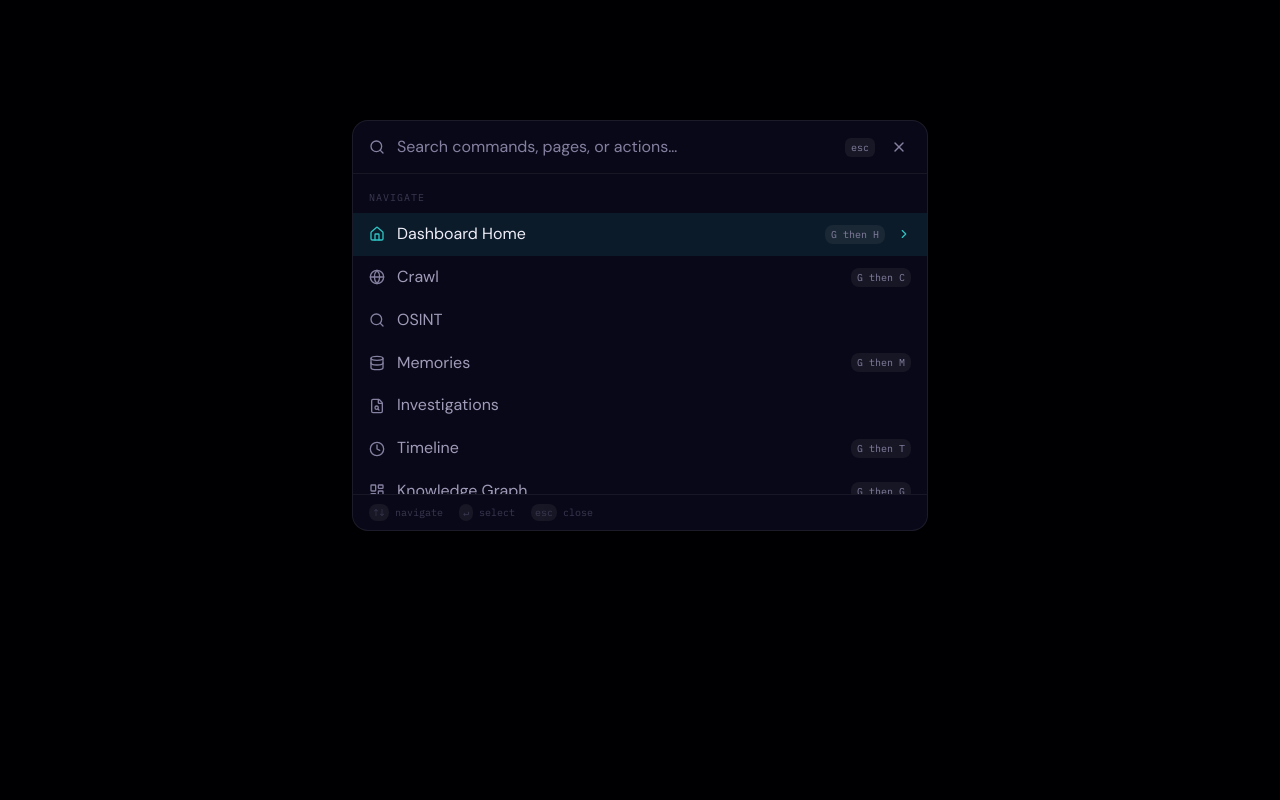
Test: CommandPalette › filters items by search query
expect the option "Dashboard Home G then H" is shown: met, box [353,213,927,256]
expect the option "Memories G then M" is shown: met, box [353,342,927,384]
Type to filter
In the dropdown: (615, 147) [397,136,833,158], type "toggle"
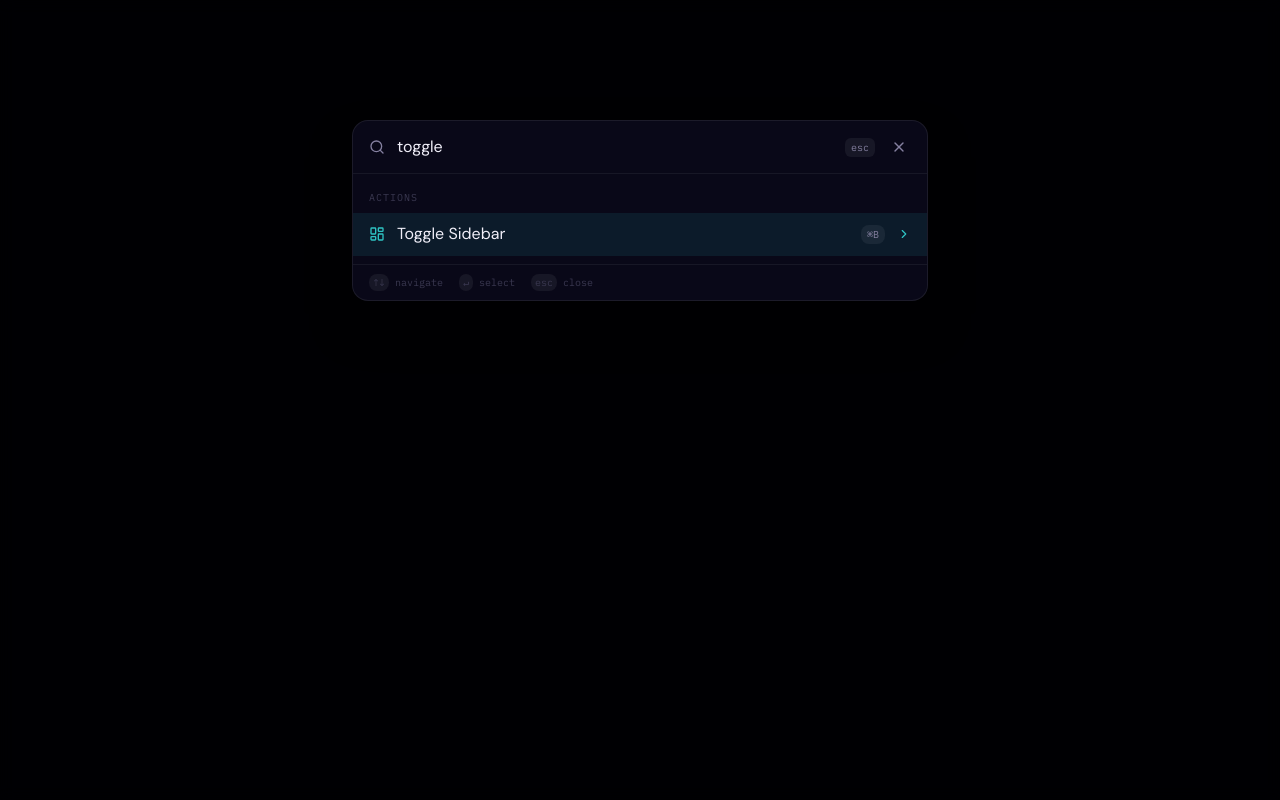
expect the option "Toggle Sidebar ⌘B" is shown: met, box [353,213,927,256]
expect the option "Dashboard Home" is gone: met
